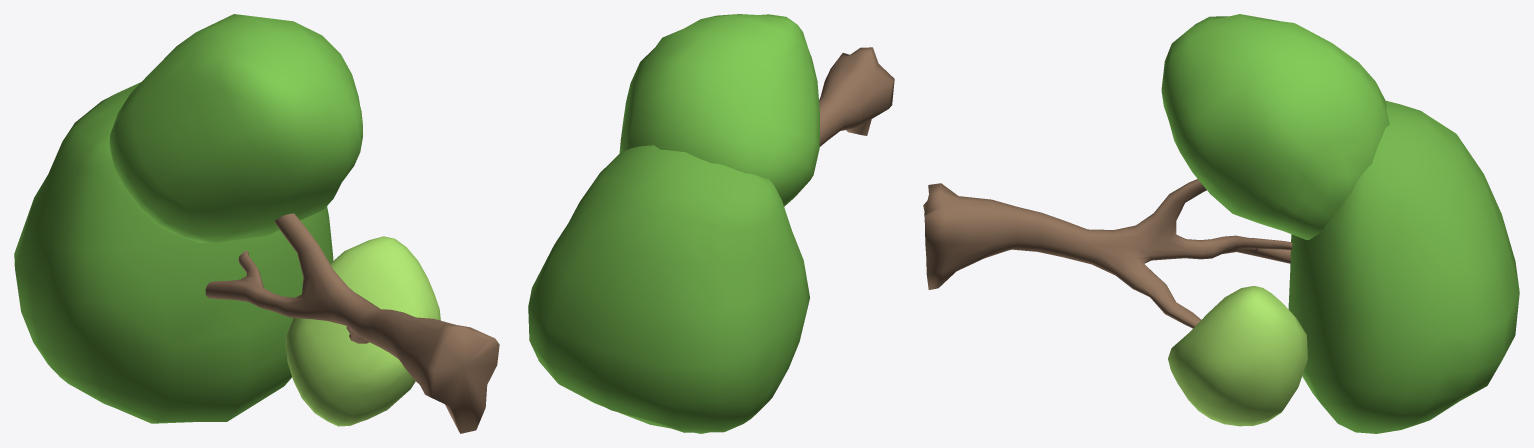
Rendered from tree1.fbx.
The picture shows the model from 3 angles, left to right: view 1: azimuth 30°, elevation 25°; view 2: azimuth 150°, elevation 25°; view 3: azimuth 270°, elevation 25°; orthographic projection. The views are drawn at different scales.
Visible parts, largest first — view 1: tree1; view 2: tree1; view 3: tree1.
Boxes of the visible parts, x1=… form: tree1: x1=14, y1=14, x2=499, y2=433; tree1: x1=528, y1=14, x2=894, y2=433; tree1: x1=923, y1=14, x2=1519, y2=433.
Bounding box in the file's own units: 1065 × 1448 × 1999.
